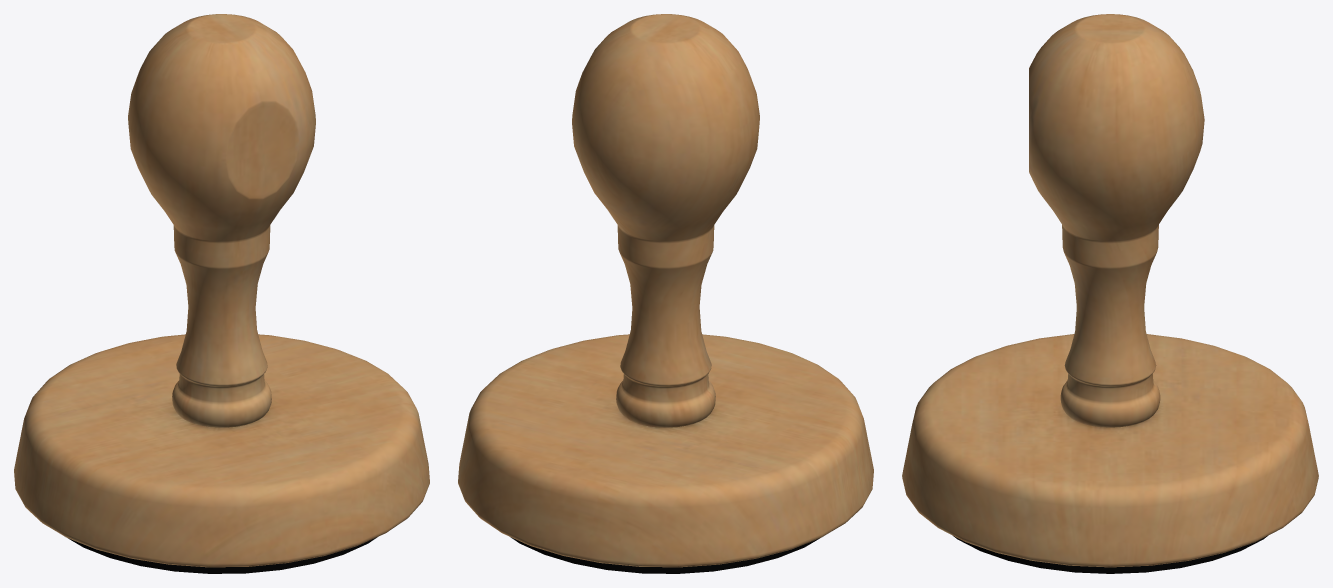
Rendered from stamp.glb.
3 views of the same model, side by side, from view 1: azimuth 30°, elevation 25°; view 2: azimuth 150°, elevation 25°; view 3: azimuth 270°, elevation 25° (orthographic).
Visible parts, largest first — view 1: rubber-stamp-003; view 2: rubber-stamp-003; view 3: rubber-stamp-003.
Part boxes in pixels (x1,y1,x2,y2): rubber-stamp-003: [14, 14, 429, 573]; rubber-stamp-003: [458, 14, 873, 573]; rubber-stamp-003: [902, 14, 1318, 573].
Size of the model in its own units: 1.7 by 2.11 by 1.7.
Materials: 1 (1 with a texture image).
